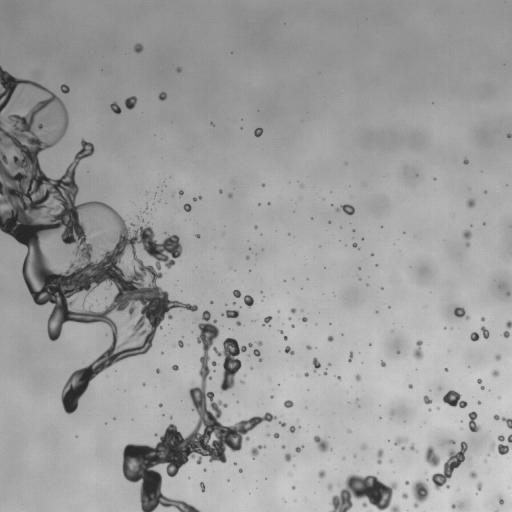droplet: (412, 480, 429, 507), (442, 390, 467, 408), (490, 434, 511, 454), (424, 446, 441, 467), (313, 435, 330, 452), (336, 204, 354, 215), (454, 307, 469, 319), (125, 96, 136, 109), (243, 294, 254, 307), (110, 102, 121, 113), (394, 436, 407, 445), (312, 357, 320, 371), (481, 326, 489, 338), (134, 43, 143, 53), (462, 230, 471, 240), (60, 84, 69, 93), (466, 198, 475, 207), (262, 316, 271, 325), (470, 332, 479, 341), (423, 395, 432, 404), (254, 128, 262, 137), (285, 346, 294, 354), (158, 92, 166, 100), (183, 203, 191, 211), (284, 453, 292, 461), (284, 400, 293, 407), (233, 290, 241, 297), (295, 445, 303, 452), (318, 470, 325, 478), (492, 370, 499, 377), (470, 471, 477, 478), (200, 482, 205, 491), (355, 374, 361, 381), (289, 426, 295, 433), (447, 439, 455, 444), (327, 483, 332, 491), (172, 364, 178, 370), (477, 482, 481, 491), (178, 340, 183, 347), (279, 421, 286, 426), (463, 158, 468, 164), (178, 190, 183, 196), (327, 336, 333, 341), (495, 354, 500, 360), (360, 444, 366, 449), (302, 317, 307, 322), (274, 433, 279, 438), (402, 493, 407, 498), (256, 341, 262, 345), (410, 444, 414, 450), (499, 498, 503, 504), (176, 68, 181, 72), (352, 243, 357, 247), (291, 308, 295, 313), (381, 361, 385, 366), (336, 376, 341, 380), (228, 193, 232, 197), (481, 317, 485, 321), (236, 321, 240, 325), (248, 343, 252, 347), (306, 345, 310, 349), (477, 379, 481, 383), (408, 384, 412, 388), (390, 411, 394, 415), (507, 134, 511, 137), (196, 234, 200, 237), (466, 242, 469, 246), (241, 380, 244, 384), (324, 370, 326, 375), (131, 223, 134, 226), (279, 330, 282, 333), (284, 336, 287, 339), (156, 369, 159, 372), (305, 373, 308, 376), (159, 403, 162, 406), (282, 445, 285, 448), (401, 446, 404, 449), (239, 469, 242, 472), (405, 481, 408, 484), (292, 486, 295, 489), (262, 183, 264, 186), (219, 190, 222, 192), (254, 226, 257, 228), (246, 256, 249, 258), (445, 368, 447, 371), (142, 383, 145, 385), (438, 387, 441, 389), (481, 386, 483, 389), (478, 401, 480, 404), (348, 429, 350, 432), (267, 433, 269, 436), (211, 123, 213, 125), (301, 184, 303, 186), (507, 292, 509, 294), (397, 351, 399, 353), (488, 452, 490, 454)
ligament: (0, 66, 197, 413), (122, 310, 276, 511), (329, 474, 400, 511), (431, 441, 467, 490), (493, 414, 511, 429), (468, 411, 479, 432), (413, 340, 423, 360), (250, 445, 264, 458), (502, 320, 511, 337), (223, 310, 239, 317), (253, 349, 262, 361), (376, 448, 383, 463), (451, 502, 463, 508), (348, 352, 353, 361), (193, 196, 201, 200), (144, 206, 148, 212)
